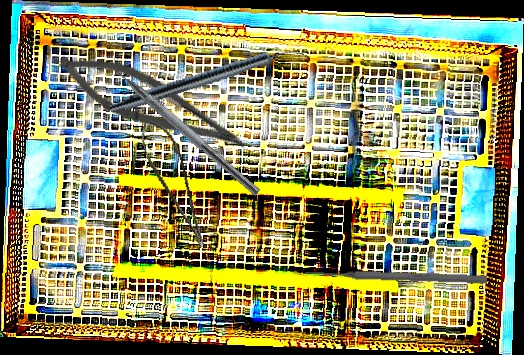Chopper: (98, 48, 270, 197)
Handpiece: (107, 39, 306, 120)
Micro Scissor: (47, 40, 259, 164), (134, 112, 210, 256)
Pusher: (303, 266, 488, 286)
